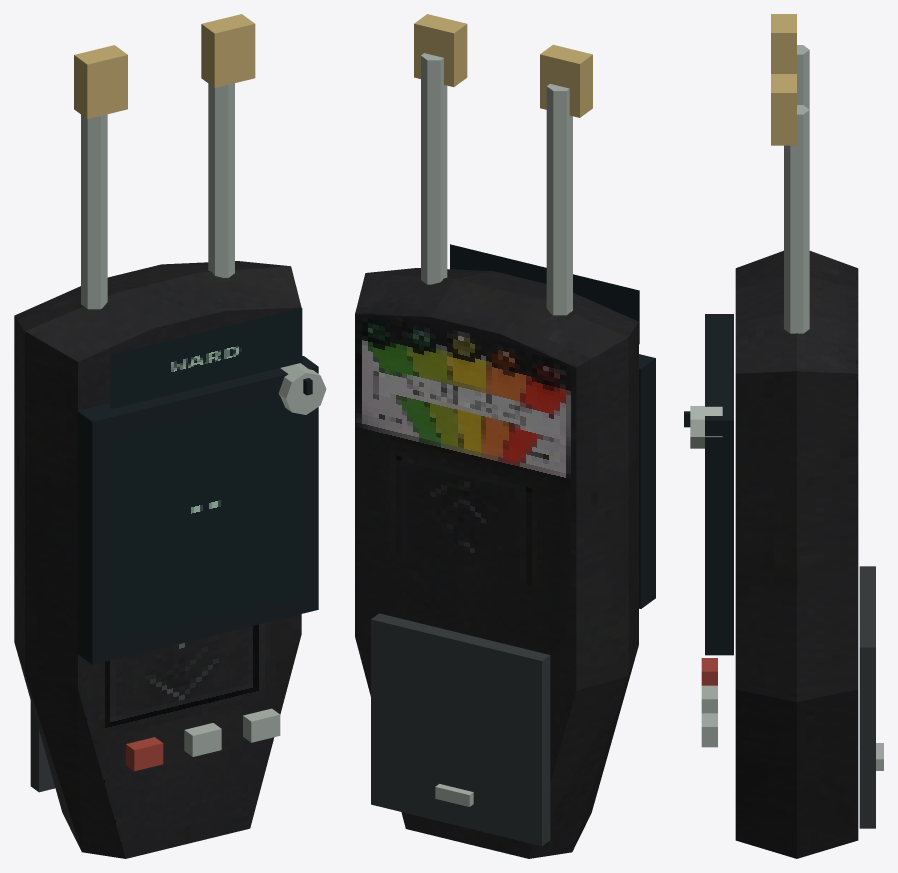
The model's file is blender_ward_stability_probe_2.glb.
3 views of the same model, side by side, from view 1: azimuth 30°, elevation 25°; view 2: azimuth 150°, elevation 25°; view 3: azimuth 270°, elevation 25° (orthographic). The views are drawn at different scales.
Visible parts, largest first — view 1: blender_ward_stability_probe_2; view 2: blender_ward_stability_probe_2; view 3: blender_ward_stability_probe_2.
Boxes of the visible parts, left/top/right/bottom form: blender_ward_stability_probe_2: left=14, top=14, right=326, bottom=858; blender_ward_stability_probe_2: left=355, top=14, right=655, bottom=858; blender_ward_stability_probe_2: left=684, top=14, right=883, bottom=858.
Size of the model in its own units: 0.092 by 0.264 by 0.062.
1 material, 1 textured.
